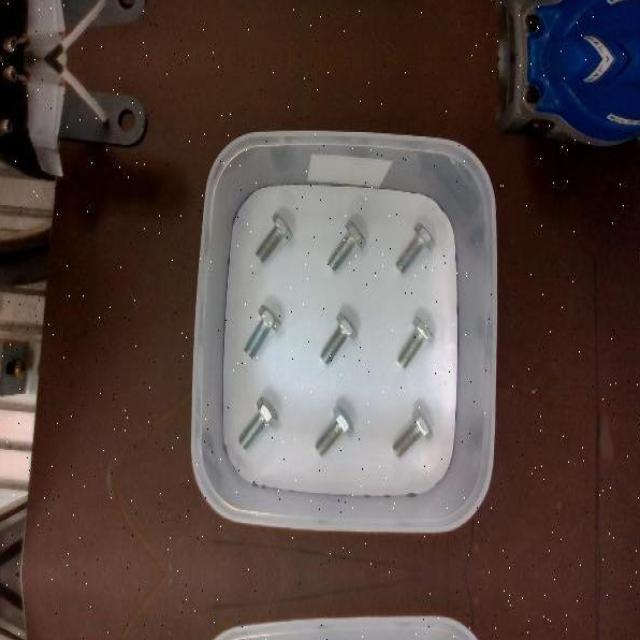screw: (396, 221, 436, 273), (392, 406, 433, 456), (319, 311, 358, 363), (238, 397, 277, 449), (328, 220, 366, 272), (244, 303, 281, 356), (397, 316, 435, 367), (315, 404, 353, 454), (256, 212, 293, 262)
